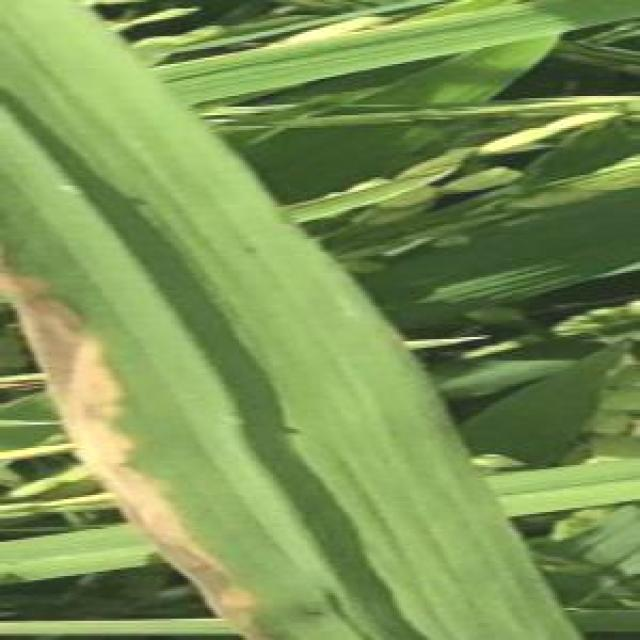Bacterial_Leaf_Blight: (11, 30, 394, 636)
